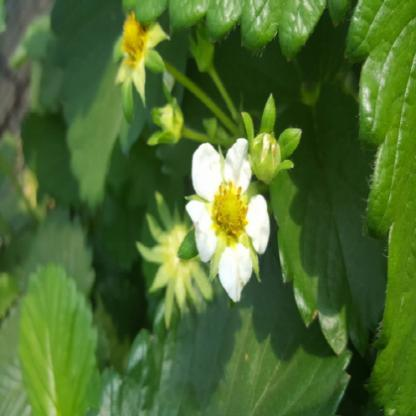Strawberry_Blossom_Blight: (208, 178, 251, 250)
